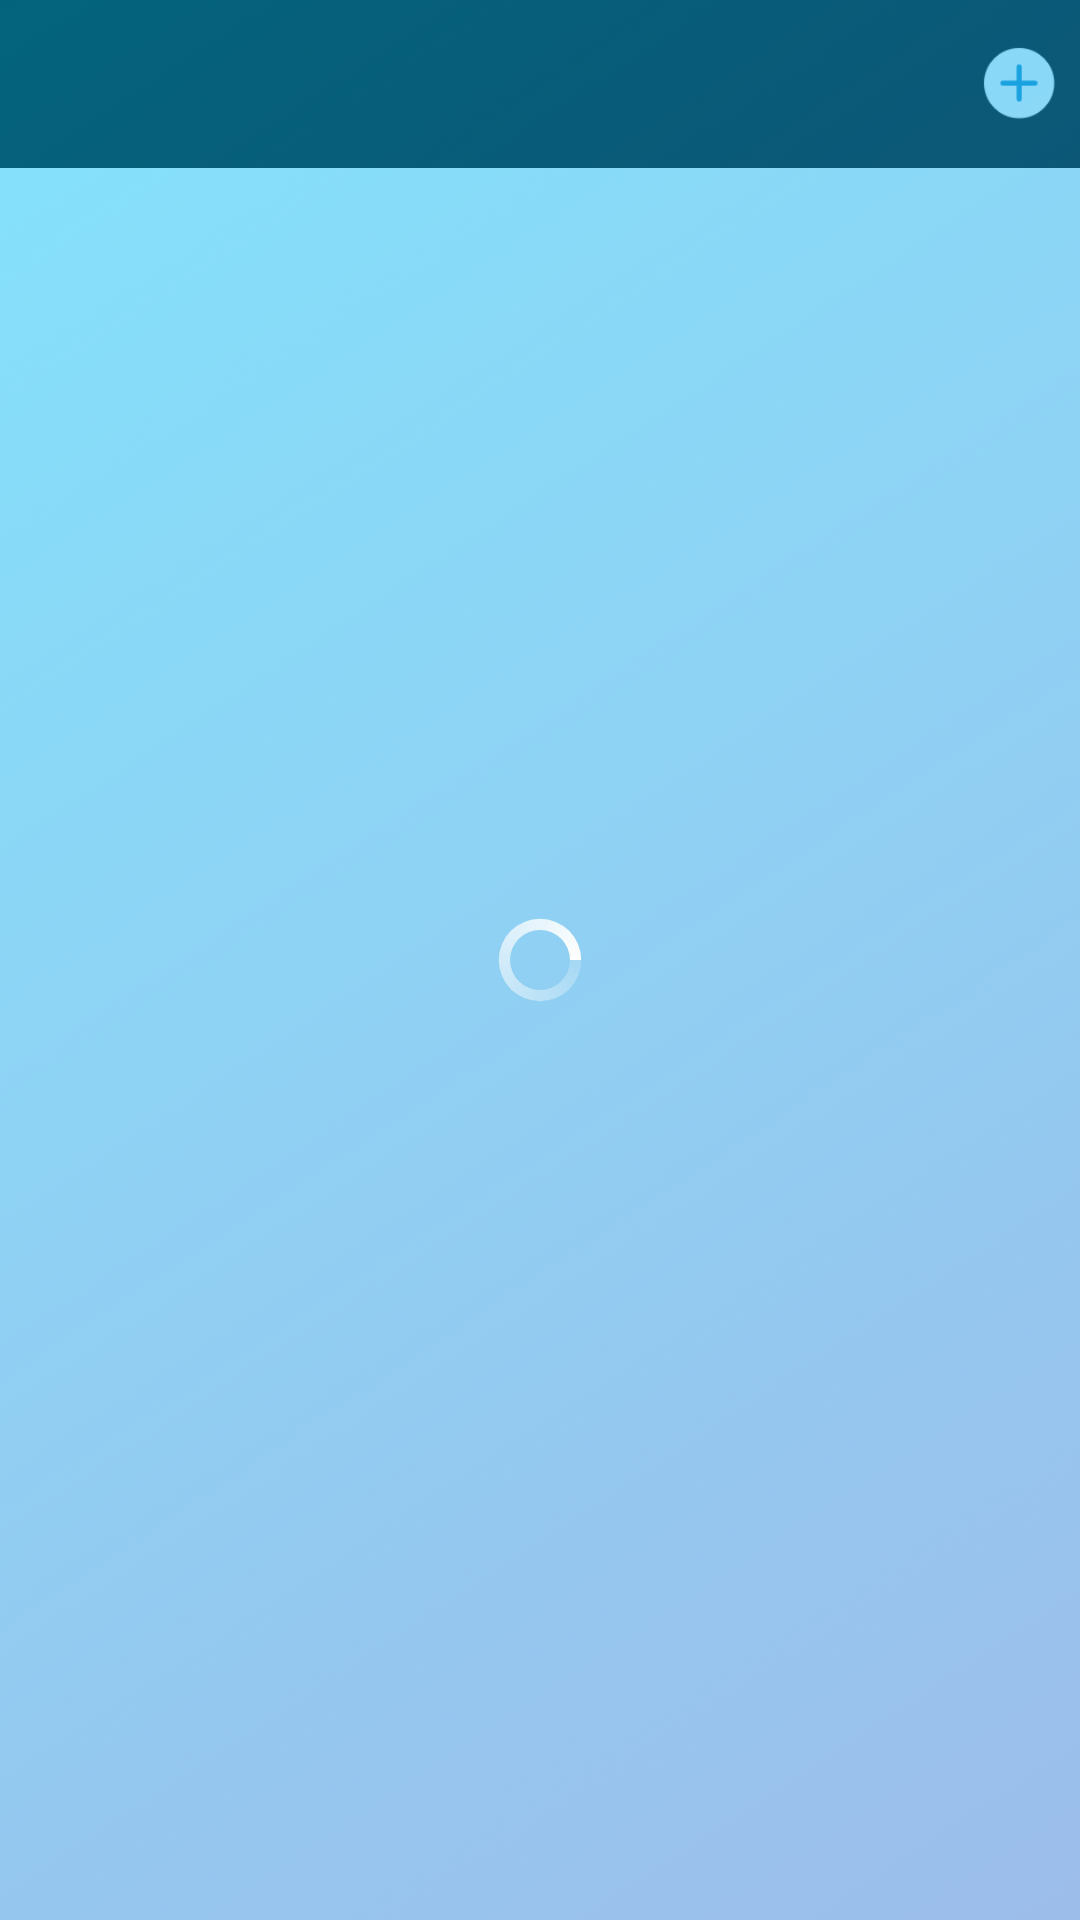

Screen size 1080 × 1920. Icon name, then its center in pixels as (x,y):
add funds: (1019,83)
